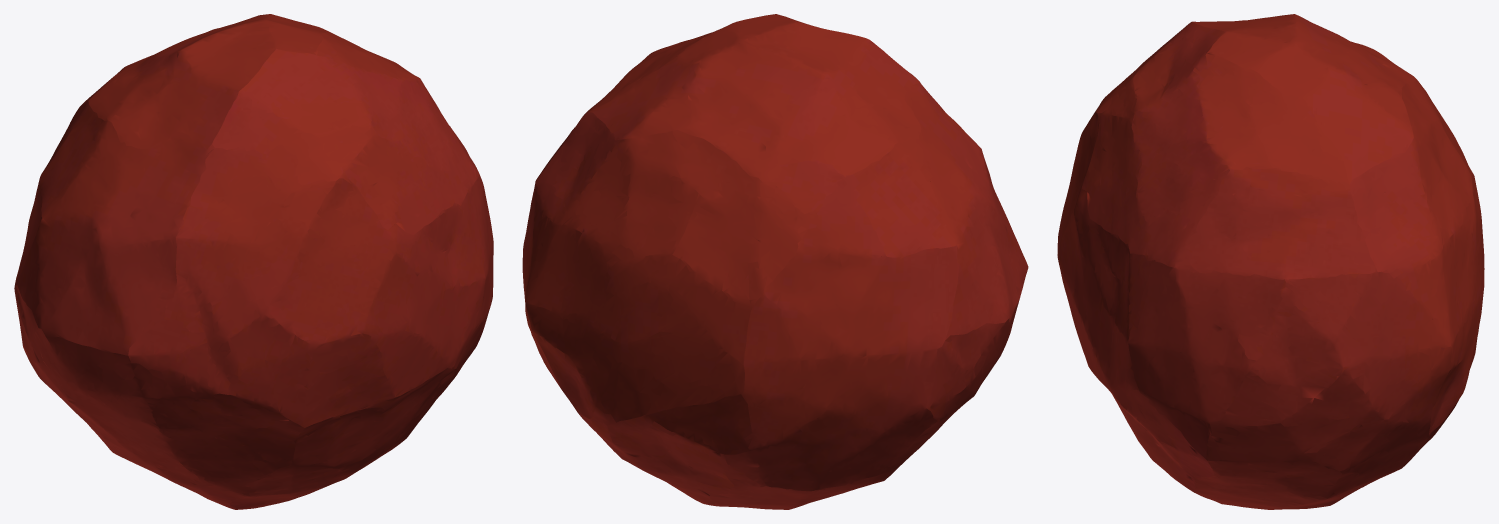
File: pill_heal.glb
3 renders of one model, left to right at view 1: azimuth 30°, elevation 25°; view 2: azimuth 150°, elevation 25°; view 3: azimuth 270°, elevation 25°, orthographic.
Parts seen in each view (by area): view 1: pill_heal; view 2: pill_heal; view 3: pill_heal.
Boxes of the visible parts, left/top/right/bottom form: pill_heal: left=14, top=14, right=493, bottom=509; pill_heal: left=522, top=14, right=1028, bottom=509; pill_heal: left=1057, top=14, right=1484, bottom=509.
Size of the model in its own units: 0.1194 by 0.12 by 0.0998.
1 material, 1 textured.
